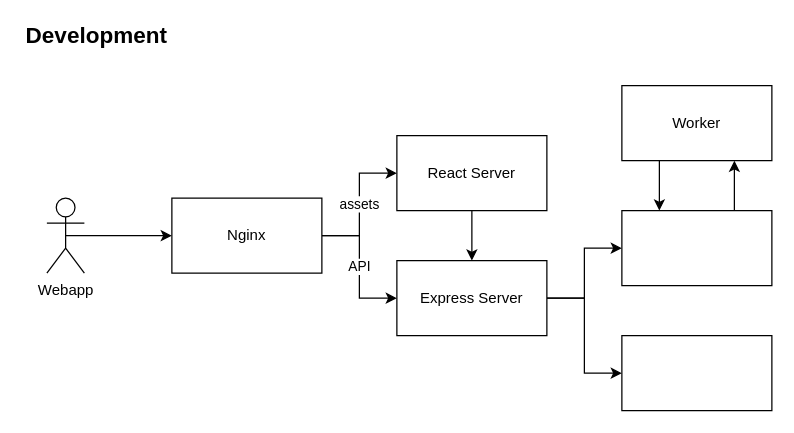
Some shapes in this 794 by 433 pixel diagram are drawn without their labels. The centre of each missing label's shape, as x and y in pixels:
Postgres: (x=696, y=372)
Redis: (x=696, y=247)
